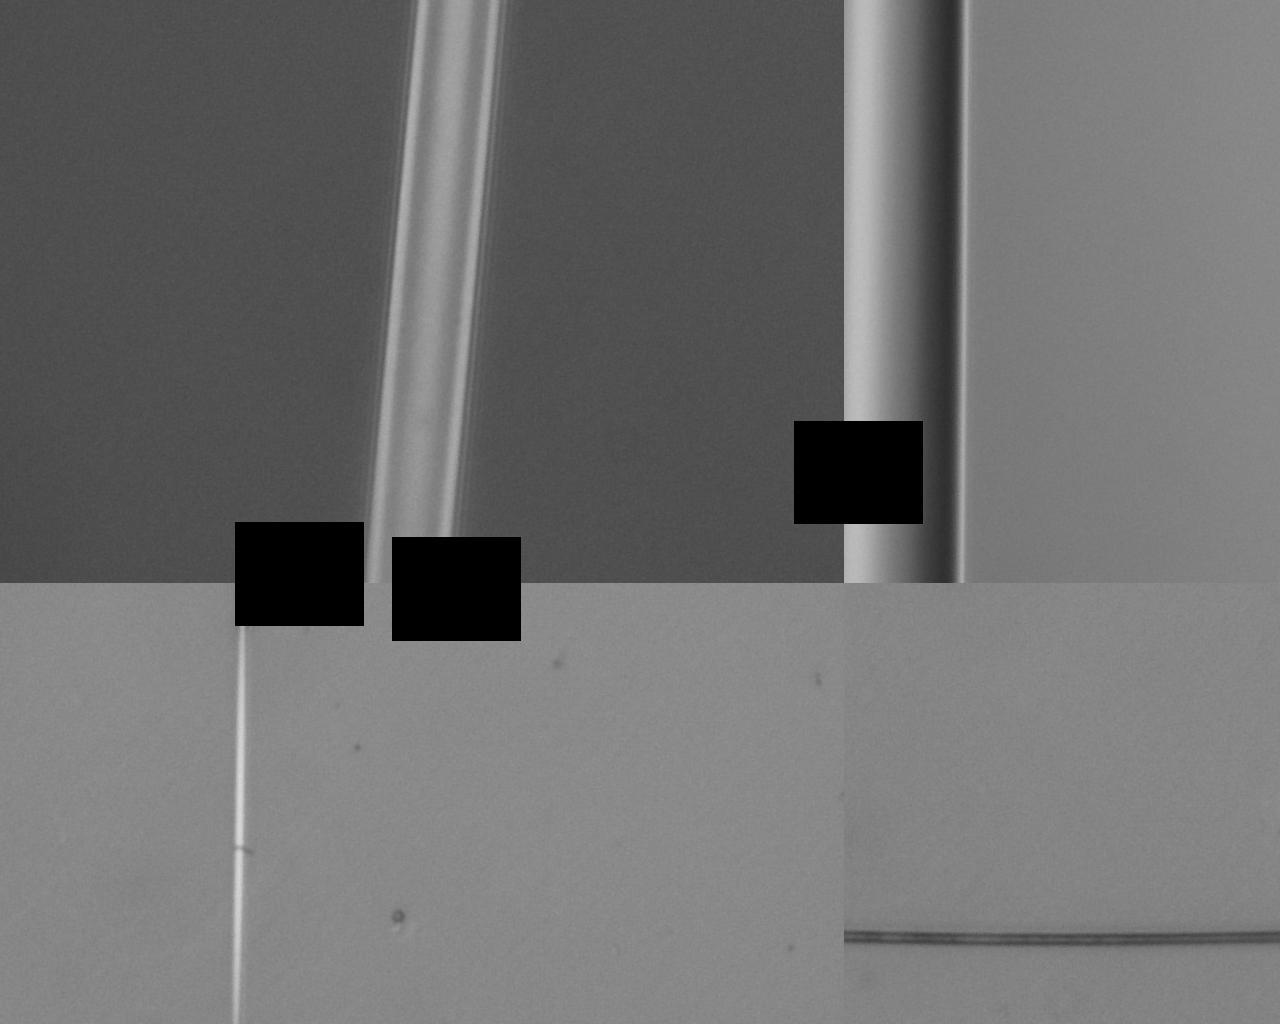fiber: (716, 0, 1087, 532), (89, 0, 288, 532)
